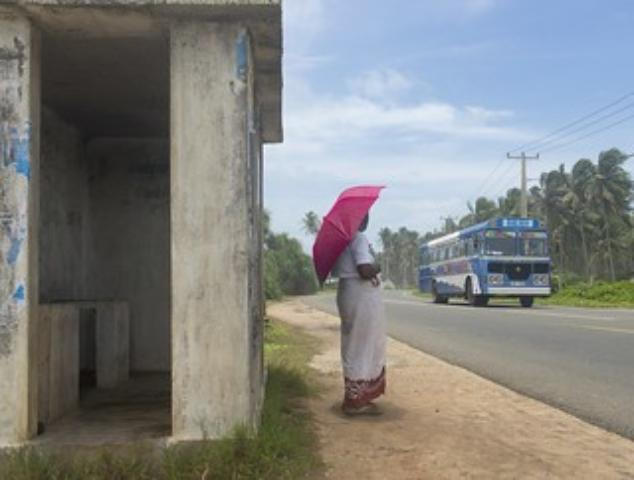bus: (417, 216, 553, 309)
